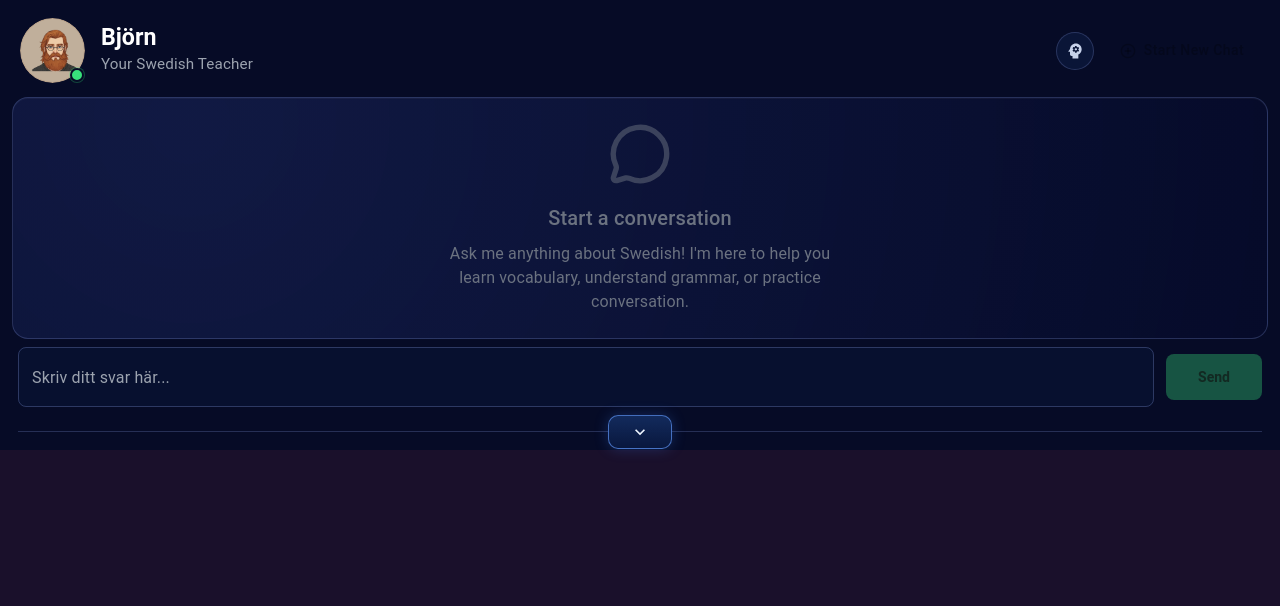
Test: ChatView › defaults speech language from the user profile
Click the button named "chat controls": coordinates (640, 432) [608,415,672,449]
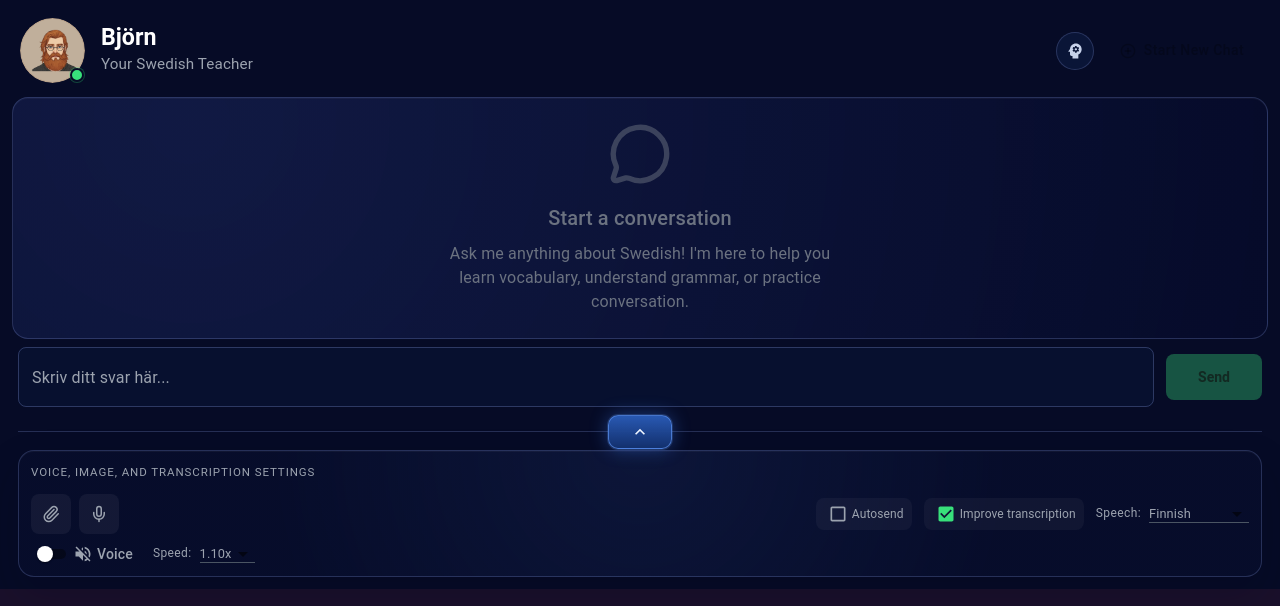
Now the dropdown named "speech language" reads "Finnish", box [1149,506,1191,521]
